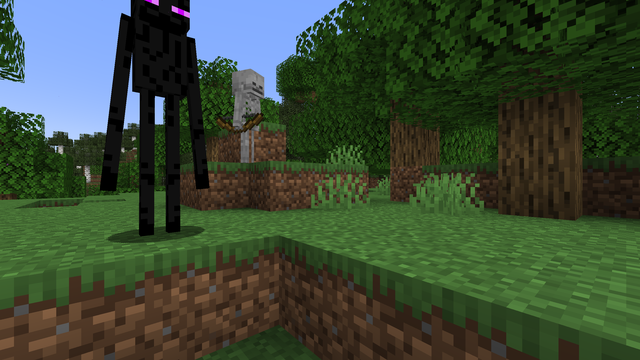endermens: (126, 2, 194, 240)
squelettes: (230, 67, 266, 164)
